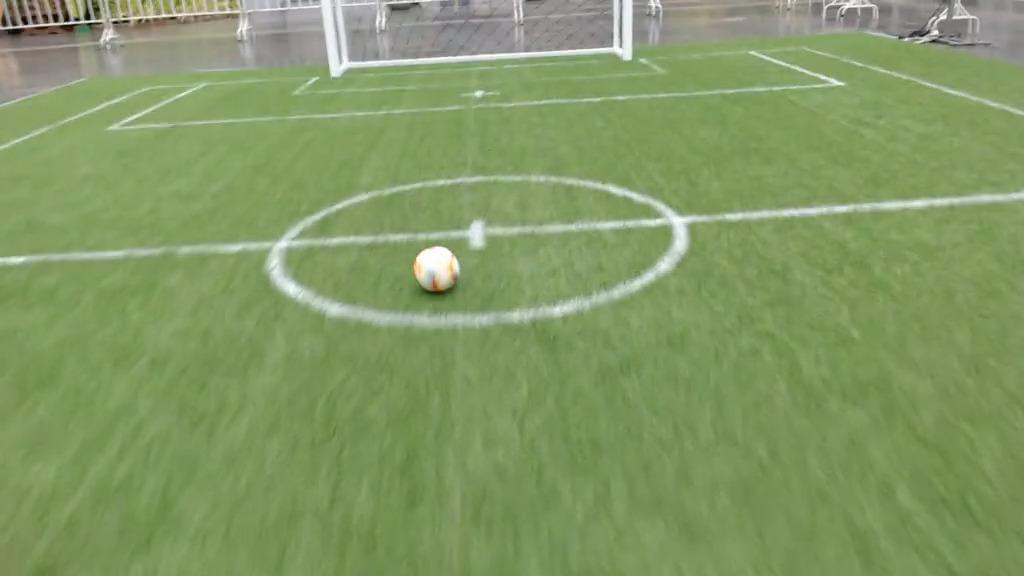ball: (406, 237, 468, 300)
